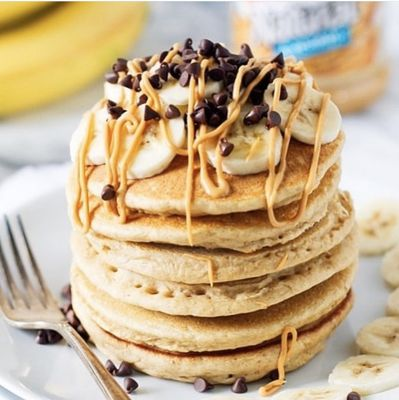burger: (0, 210, 135, 400)
pasta: (0, 3, 151, 119)
soup: (39, 31, 359, 392)
